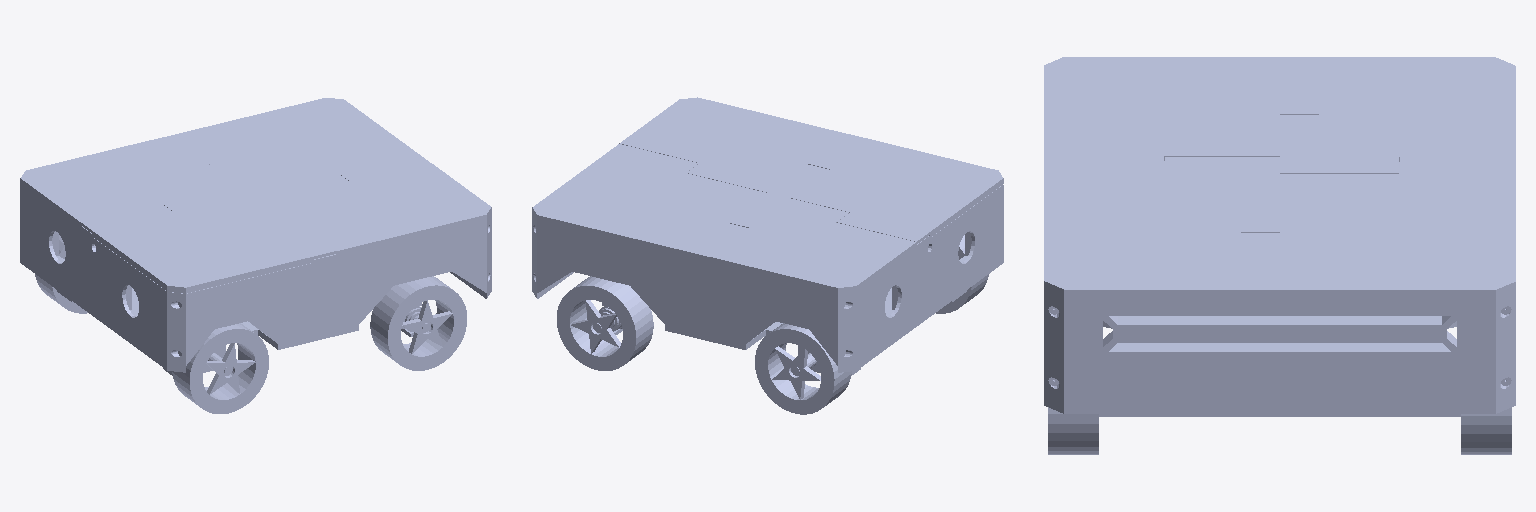
robot.urdf — car_urdf:
<?xml version="1.0" encoding="utf-8"?>
<!-- This URDF was automatically created by SolidWorks to URDF Exporter! Originally created by [author] ([email redacted]) 
     Commit Version: 1.6.0-4-g7f85cfe  Build Version: 1.6.7995.38578
     For more information, please see http://wiki.ros.org/sw_urdf_exporter -->
<robot
  name="car_urdf">
  <link
    name="base_link">
    <inertial>
      <origin
        xyz="-0.00645768872727767 3.74512612866251E-07 0.0351213518570509"
        rpy="0 0 0" />
      <mass
        value="1.02425311665903" />
      <inertia
        ixx="0.00114885526776431"
        ixy="2.22477424151059E-05"
        ixz="-3.85197330179937E-08"
        iyy="0.00140731737401737"
        iyz="-4.58277469124373E-06"
        izz="0.00232634507862739" />
    </inertial>
    <visual>
      <origin
        xyz="0 0 0"
        rpy="0 0 0" />
      <geometry>
        <mesh
          filename="package://car_urdf/meshes/base_link.STL" />
      </geometry>
      <material
        name="">
        <color
          rgba="0.792156862745098 0.819607843137255 0.933333333333333 1" />
      </material>
    </visual>
    <collision>
      <origin
        xyz="0 0 0"
        rpy="0 0 0" />
      <geometry>
        <mesh
          filename="package://car_urdf/meshes/base_link.STL" />
      </geometry>
    </collision>
  </link>
  <link
    name="back_left_wheel">
    <inertial>
      <origin
        xyz="0 -4.16333634234434E-17 -0.0125482409238937"
        rpy="0 0 0" />
      <mass
        value="0.0578292592084442" />
      <inertia
        ixx="2.66275510837215E-05"
        ixy="-2.10249235348185E-21"
        ixz="9.82495083339318E-21"
        iyy="2.66275510837215E-05"
        iyz="7.45810730015738E-20"
        izz="4.68259214243964E-05" />
    </inertial>
    <visual>
      <origin
        xyz="0 0 0"
        rpy="0 0 0" />
      <geometry>
        <mesh
          filename="package://car_urdf/meshes/back_left_wheel.STL" />
      </geometry>
      <material
        name="">
        <color
          rgba="0.792156862745098 0.819607843137255 0.933333333333333 1" />
      </material>
    </visual>
    <collision>
      <origin
        xyz="0 0 0"
        rpy="0 0 0" />
      <geometry>
        <mesh
          filename="package://car_urdf/meshes/back_left_wheel.STL" />
      </geometry>
    </collision>
  </link>
  <joint
    name="back_left_wheel_joint"
    type="continuous">
    <origin
      xyz="-0.09 0.116 -0.01"
      rpy="-1.5708 0 0" />
    <parent
      link="base_link" />
    <child
      link="back_left_wheel" />
    <axis
      xyz="0 0 1" />
    <limit
      effort="10"
      velocity="10" />
    <dynamics
      damping="0.1"
      friction="0.1" />
  </joint>
  <link
    name="back_right_wheel">
    <inertial>
      <origin
        xyz="2.77555756156289E-17 6.93889390390723E-17 -0.0125482409238937"
        rpy="0 0 0" />
      <mass
        value="0.0578292592084443" />
      <inertia
        ixx="2.66275510837215E-05"
        ixy="-6.28509923993659E-22"
        ixz="-8.78162986040991E-21"
        iyy="2.66275510837215E-05"
        iyz="-7.06301331072774E-20"
        izz="4.68259214243965E-05" />
    </inertial>
    <visual>
      <origin
        xyz="0 0 0"
        rpy="0 0 0" />
      <geometry>
        <mesh
          filename="package://car_urdf/meshes/back_right_wheel.STL" />
      </geometry>
      <material
        name="">
        <color
          rgba="0.792156862745098 0.819607843137255 0.933333333333333 1" />
      </material>
    </visual>
    <collision>
      <origin
        xyz="0 0 0"
        rpy="0 0 0" />
      <geometry>
        <mesh
          filename="package://car_urdf/meshes/back_right_wheel.STL" />
      </geometry>
    </collision>
  </link>
  <joint
    name="back_right_wheel_joint"
    type="continuous">
    <origin
      xyz="-0.09 -0.116 -0.01"
      rpy="1.5708 0 0" />
    <parent
      link="base_link" />
    <child
      link="back_right_wheel" />
    <axis
      xyz="0 0 -1" />
    <limit
      effort="10"
      velocity="10" />
    <dynamics
      damping="0.1"
      friction="0.1" />
  </joint>
  <link
    name="turn_left_wheel">
    <inertial>
      <origin
        xyz="6.93889390390723E-18 -0.00113877791740061 0"
        rpy="0 0 0" />
      <mass
        value="0.00426270283294646" />
      <inertia
        ixx="2.44795132666107E-07"
        ixy="1.3400868606092E-22"
        ixz="2.18104263075495E-23"
        iyy="2.69880515935288E-07"
        iyz="-2.42131476952577E-22"
        izz="2.44795132666107E-07" />
    </inertial>
    <visual>
      <origin
        xyz="0 0 0"
        rpy="0 0 0" />
      <geometry>
        <mesh
          filename="package://car_urdf/meshes/turn_left_wheel.STL" />
      </geometry>
      <material
        name="">
        <color
          rgba="0.792156862745098 0.819607843137255 0.933333333333333 1" />
      </material>
    </visual>
    <collision>
      <origin
        xyz="0 0 0"
        rpy="0 0 0" />
      <geometry>
        <mesh
          filename="package://car_urdf/meshes/turn_left_wheel.STL" />
      </geometry>
    </collision>
  </link>
  <joint
    name="turn_left_wheel_joint"
    type="revolute">
    <origin
      xyz="0.080107 0.0945 -0.013"
      rpy="0 0 0" />
    <parent
      link="base_link" />
    <child
      link="turn_left_wheel" />
    <axis
      xyz="0 0 1" />
    <limit
      lower="-0.3925"
      upper="0.3925"
      effort="10"
      velocity="10" />
    <dynamics
      damping="0.1"
      friction="0.1" />
  </joint>
  <link
    name="front_left_wheel">
    <inertial>
      <origin
        xyz="1.04083408558608E-16 0.0109517590761063 -8.32667268468867E-17"
        rpy="0 0 0" />
      <mass
        value="0.0578292592084442" />
      <inertia
        ixx="2.66275510837215E-05"
        ixy="8.87627599938019E-20"
        ixz="9.21692029061869E-22"
        iyy="4.68259214243964E-05"
        iyz="-1.44573487488331E-19"
        izz="2.66275510837215E-05" />
    </inertial>
    <visual>
      <origin
        xyz="0 0 0"
        rpy="0 0 0" />
      <geometry>
        <mesh
          filename="package://car_urdf/meshes/front_left_wheel.STL" />
      </geometry>
      <material
        name="">
        <color
          rgba="0.792156862745098 0.819607843137255 0.933333333333333 1" />
      </material>
    </visual>
    <collision>
      <origin
        xyz="0 0 0"
        rpy="0 0 0" />
      <geometry>
        <mesh
          filename="package://car_urdf/meshes/front_left_wheel.STL" />
      </geometry>
    </collision>
  </link>
  <joint
    name="front_left_wheel_joint"
    type="continuous">
    <origin
      xyz="0 0 0"
      rpy="0 0 0" />
    <parent
      link="turn_left_wheel" />
    <child
      link="front_left_wheel" />
    <axis
      xyz="0 1 0" />
    <limit
      effort="10"
      velocity="10" />
    <dynamics
      damping="0.1"
      friction="0.1" />
  </joint>
  <link
    name="turn_right_wheel">
    <inertial>
      <origin
        xyz="4.85722573273506E-17 0.00113877791740072 1.38777878078145E-17"
        rpy="0 0 0" />
      <mass
        value="0.00426270283294647" />
      <inertia
        ixx="2.44795132666107E-07"
        ixy="1.05432241845345E-22"
        ixz="-1.61558713389338E-24"
        iyy="2.69880515935288E-07"
        iyz="-1.82818599944427E-22"
        izz="2.44795132666107E-07" />
    </inertial>
    <visual>
      <origin
        xyz="0 0 0"
        rpy="0 0 0" />
      <geometry>
        <mesh
          filename="package://car_urdf/meshes/turn_right_wheel.STL" />
      </geometry>
      <material
        name="">
        <color
          rgba="0.792156862745098 0.819607843137255 0.933333333333333 1" />
      </material>
    </visual>
    <collision>
      <origin
        xyz="0 0 0"
        rpy="0 0 0" />
      <geometry>
        <mesh
          filename="package://car_urdf/meshes/turn_right_wheel.STL" />
      </geometry>
    </collision>
  </link>
  <joint
    name="turn_right_wheel_joint"
    type="revolute">
    <origin
      xyz="0.080107 -0.0945 -0.013"
      rpy="0 0 0" />
    <parent
      link="base_link" />
    <child
      link="turn_right_wheel" />
    <axis
      xyz="0 0 1" />
    <limit
      lower="-0.3925"
      upper="0.3925"
      effort="10"
      velocity="10" />
    <dynamics
      damping="0.1"
      friction="0.1" />
  </joint>
  <link
    name="front_right_wheel">
    <inertial>
      <origin
        xyz="-1.80411241501588E-16 -0.0109517590761062 1.38777878078145E-16"
        rpy="0 0 0" />
      <mass
        value="0.0578292592084443" />
      <inertia
        ixx="2.66275510837215E-05"
        ixy="7.25787420182212E-20"
        ixz="1.47501403572567E-21"
        iyy="4.68259214243965E-05"
        iyz="-1.37848677754755E-19"
        izz="2.66275510837215E-05" />
    </inertial>
    <visual>
      <origin
        xyz="0 0 0"
        rpy="0 0 0" />
      <geometry>
        <mesh
          filename="package://car_urdf/meshes/front_right_wheel.STL" />
      </geometry>
      <material
        name="">
        <color
          rgba="0.792156862745098 0.819607843137255 0.933333333333333 1" />
      </material>
    </visual>
    <collision>
      <origin
        xyz="0 0 0"
        rpy="0 0 0" />
      <geometry>
        <mesh
          filename="package://car_urdf/meshes/front_right_wheel.STL" />
      </geometry>
    </collision>
  </link>
  <joint
    name="front_right_wheel_joint"
    type="continuous">
    <origin
      xyz="0 0 0"
      rpy="0 0 0" />
    <parent
      link="turn_right_wheel" />
    <child
      link="front_right_wheel" />
    <axis
      xyz="0 1 0" />
    <limit
      effort="10"
      velocity="10" />
    <dynamics
      damping="0.1"
      friction="0.1" />
  </joint>
</robot>

--- Render facts (derived) ---
Views: 3 orthographic renders of the robot side by side, from view 1: azimuth 30°, elevation 25°; view 2: azimuth 150°, elevation 25°; view 3: azimuth 270°, elevation 25°.
Model car_urdf with 7 links and 6 joints (2 revolute, 4 continuous), rooted at base_link, posed all joints at 0.
Visible links, largest first — view 1: base_link, front_right_wheel, back_right_wheel, back_left_wheel; view 2: base_link, front_left_wheel, back_left_wheel, back_right_wheel; view 3: base_link, front_left_wheel, front_right_wheel.
Link boxes in pixels (x1,y1,x2,y2): base_link: [20, 98, 491, 375]; front_right_wheel: [370, 276, 466, 370]; back_right_wheel: [172, 323, 268, 413]; back_left_wheel: [35, 235, 87, 313]; base_link: [532, 97, 1003, 375]; front_left_wheel: [557, 276, 653, 370]; back_left_wheel: [755, 323, 851, 414]; back_right_wheel: [936, 235, 988, 313]; base_link: [1044, 57, 1515, 416]; front_left_wheel: [1461, 407, 1511, 454]; front_right_wheel: [1048, 407, 1098, 454].
Size in the robot's own frame: 0.28 by 0.24 by 0.1177 metres.
Meshes: 7 distinct files referenced, 7 mesh visuals loaded (7 binary STL).